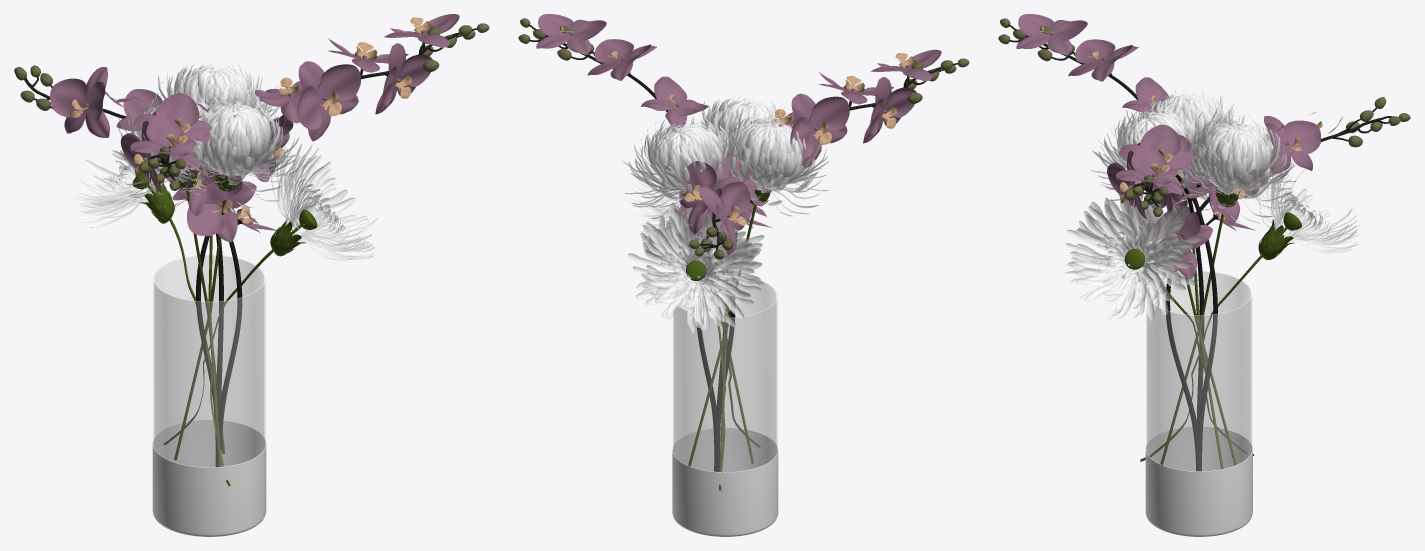
File: bouquet_1737557971502.glb
3 renders of one model, left to right at view 1: azimuth 30°, elevation 25°; view 2: azimuth 150°, elevation 25°; view 3: azimuth 270°, elevation 25°, orthographic. The views are drawn at different scales.
Bounding box in the file's own units: 2.71 × 2.98 × 2.52.
